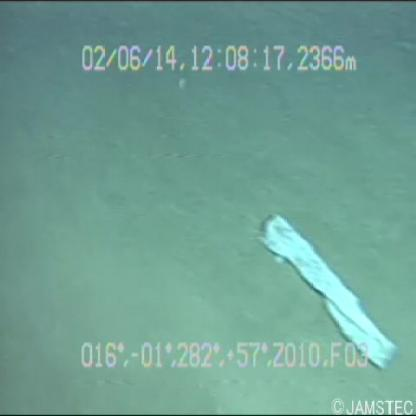Rác: (242, 182, 396, 374)
